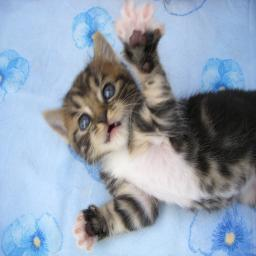catnose: (94, 109, 110, 126)
